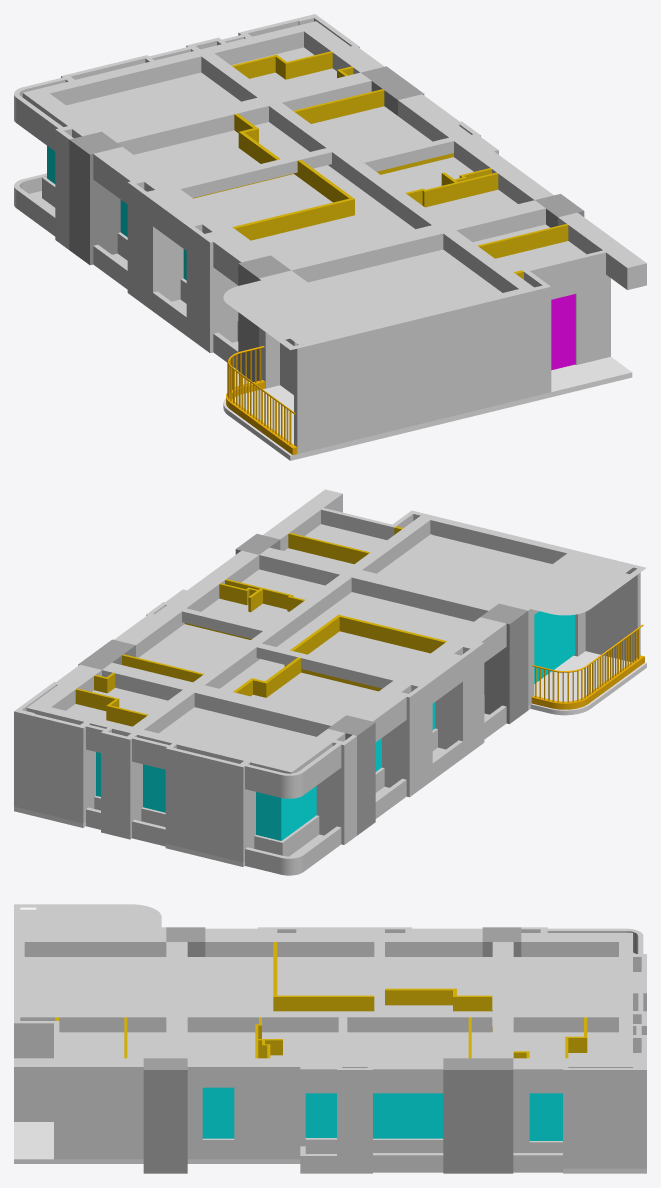
3 views of the same model, one above another, from view 1: azimuth 30°, elevation 25°; view 2: azimuth 150°, elevation 25°; view 3: azimuth 270°, elevation 25° (orthographic). The views are drawn at different scales.
Size of the model in its own units: 11.16 by 3.25 by 18.02.
